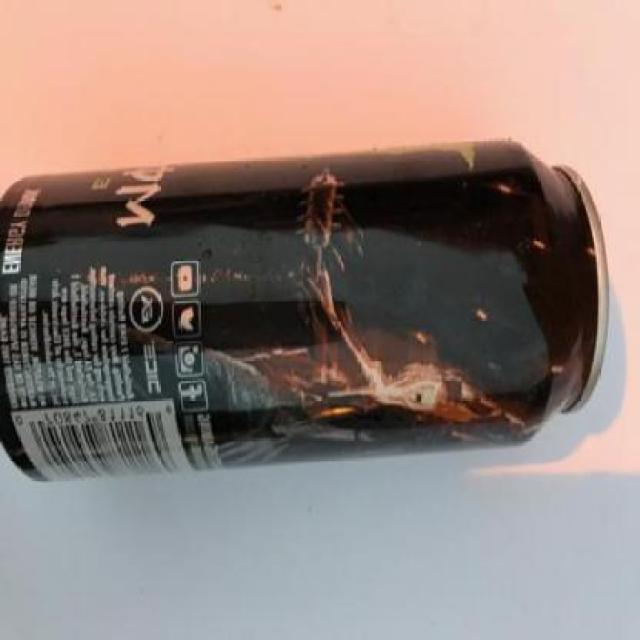METAL: (1, 138, 608, 482)
